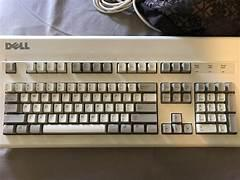keyboard: (1, 37, 240, 146)
